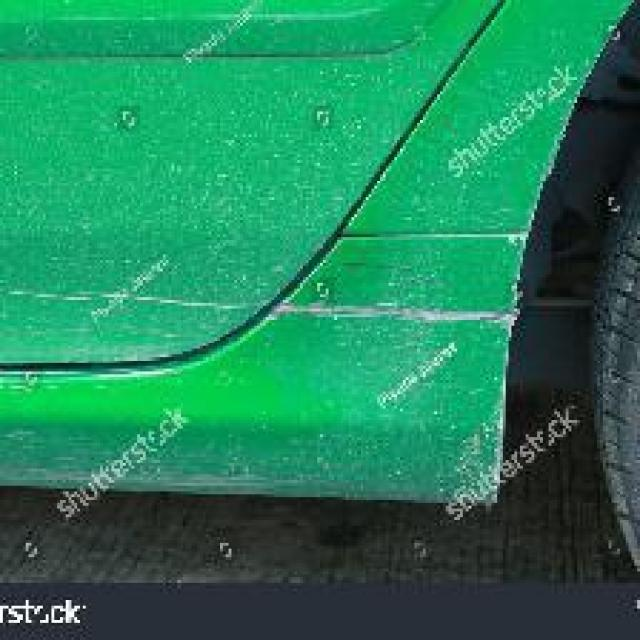damaged: (8, 294, 520, 334)
